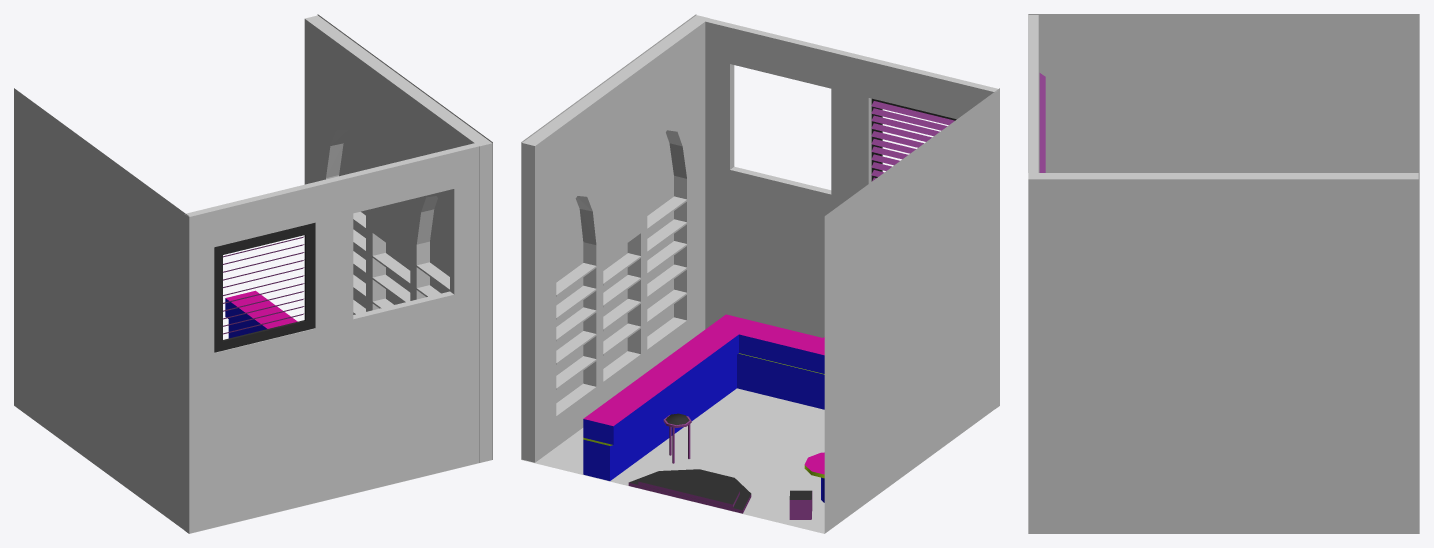
The model's file is Bar boisson.FBX.
3 renders of one model, left to right at view 1: azimuth 30°, elevation 25°; view 2: azimuth 150°, elevation 25°; view 3: azimuth 270°, elevation 25°, orthographic. The views are drawn at different scales.
Visible parts, largest first — view 1: mur fenetre bar boisson, mur bar boisson, mur etagere bar boisson, Box019, piece carre007, etageres bar, bar001; view 2: mur bar boisson, mur etagere bar boisson, mur fenetre bar boisson, bar001, sol bar boisson001, piece carre007, etageres bar, Box019, marche unity003, pouf carre031, tabouret unity002; view 3: piece carre007, mur bar boisson, mur etagere bar boisson, mur fenetre bar boisson, Box019.
Boxes of the visible parts, bbox=[...] form: mur fenetre bar boisson: bbox=[184, 143, 478, 533]; mur bar boisson: bbox=[14, 88, 189, 533]; mur etagere bar boisson: bbox=[304, 15, 492, 462]; Box019: bbox=[214, 223, 315, 352]; piece carre007: bbox=[317, 14, 492, 459]; etageres bar: bbox=[353, 211, 449, 314]; bar001: bbox=[225, 290, 297, 338]; mur bar boisson: bbox=[824, 88, 999, 533]; mur etagere bar boisson: bbox=[522, 15, 709, 462]; mur fenetre bar boisson: bbox=[705, 18, 999, 408]; bar001: bbox=[583, 314, 824, 480]; sol bar boisson001: bbox=[521, 388, 824, 533]; piece carre007: bbox=[521, 14, 696, 459]; etageres bar: bbox=[556, 196, 687, 389]; Box019: bbox=[871, 98, 956, 181]; marche unity003: bbox=[628, 469, 751, 513]; pouf carre031: bbox=[789, 490, 812, 519]; tabouret unity002: bbox=[663, 413, 691, 463]; piece carre007: bbox=[1028, 179, 1419, 533]; mur bar boisson: bbox=[1028, 14, 1419, 179]; mur etagere bar boisson: bbox=[1028, 173, 1418, 179]; mur fenetre bar boisson: bbox=[1028, 15, 1038, 172]; Box019: bbox=[1039, 73, 1045, 172].
Size of the model in its own units: 600 by 601 by 600.
